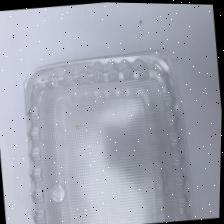plastic: (25, 51, 198, 224)
